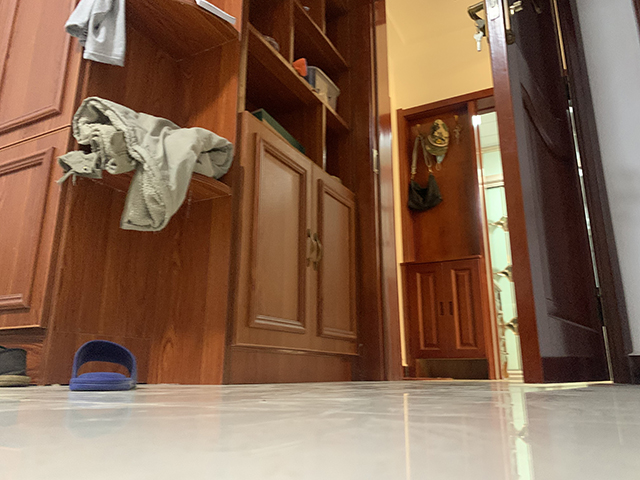cabinet: (150, 109, 365, 384), (400, 254, 497, 381)
carpet: (402, 375, 453, 381)
slippers: (68, 339, 137, 392)
